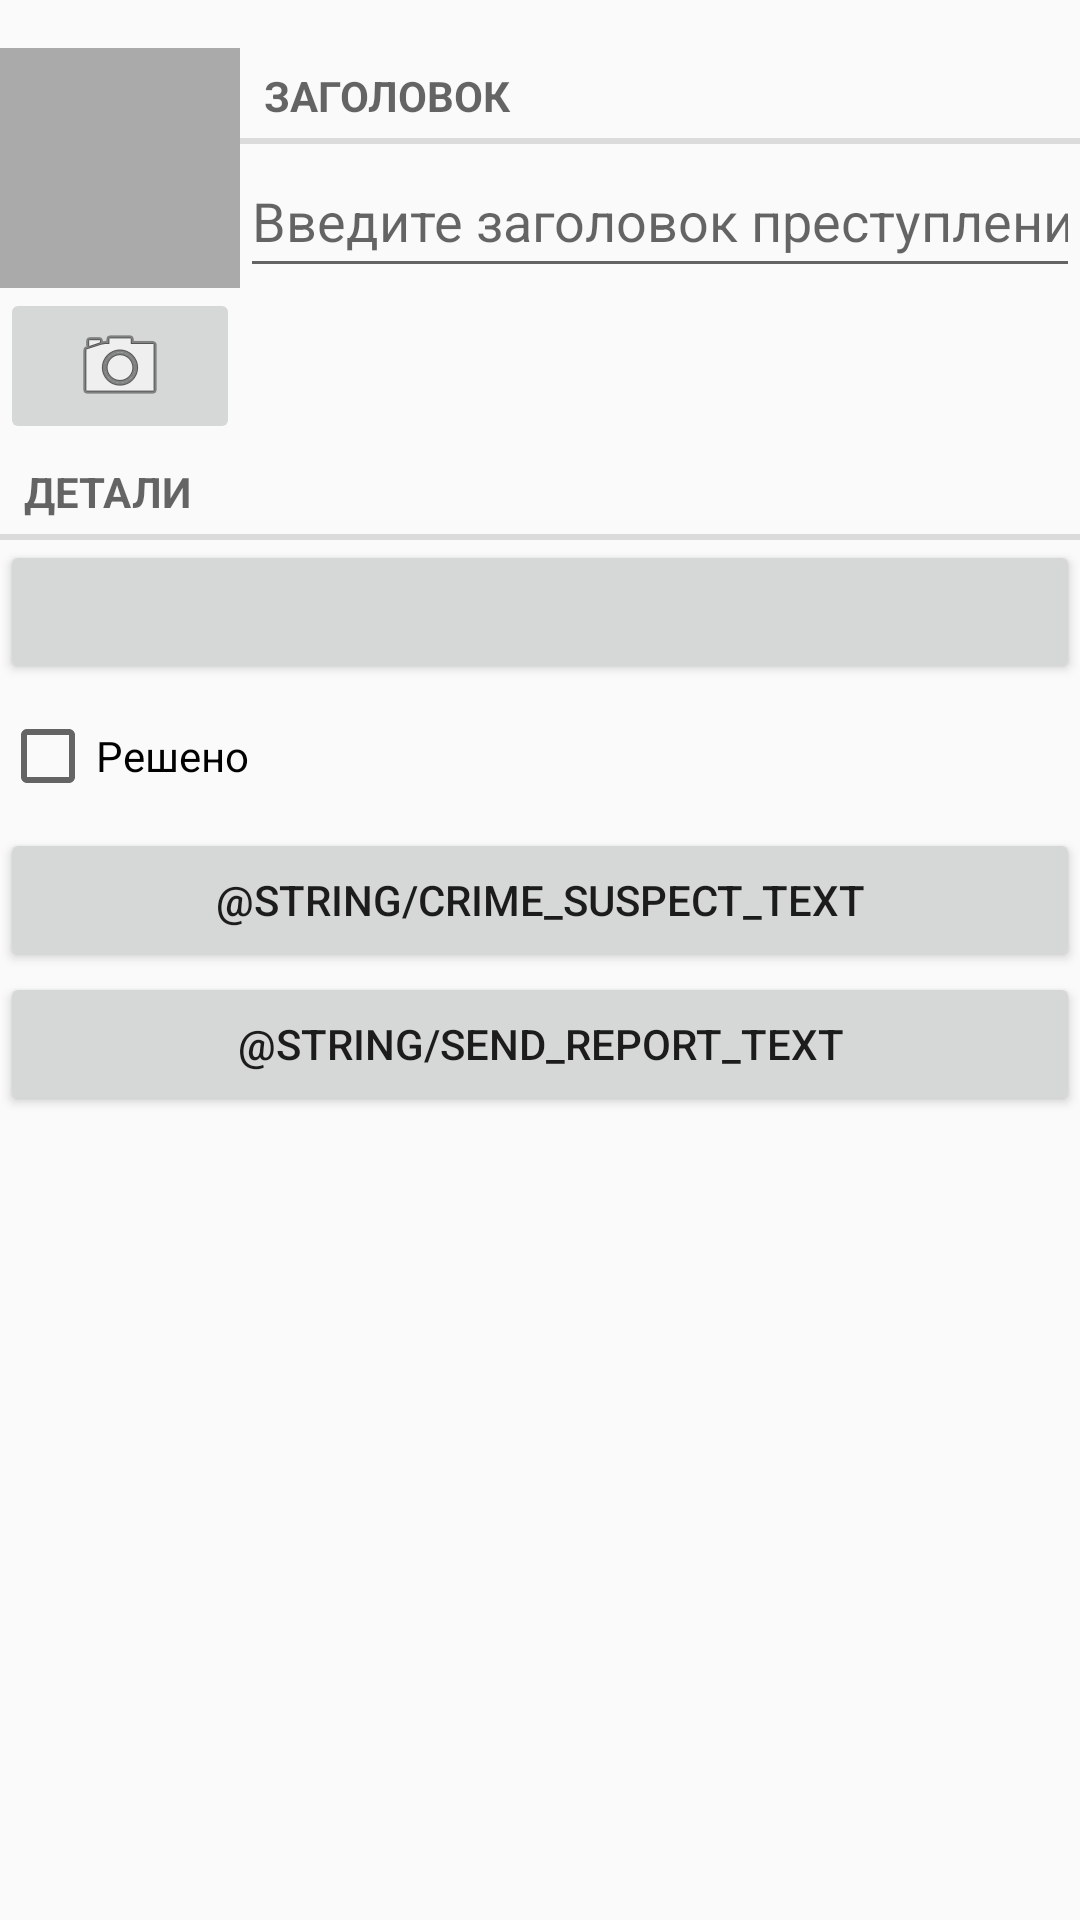

Screen size 1080 x 1920. Icon name, then its center in pixels as point (x, y):
camera: point (120, 366)
